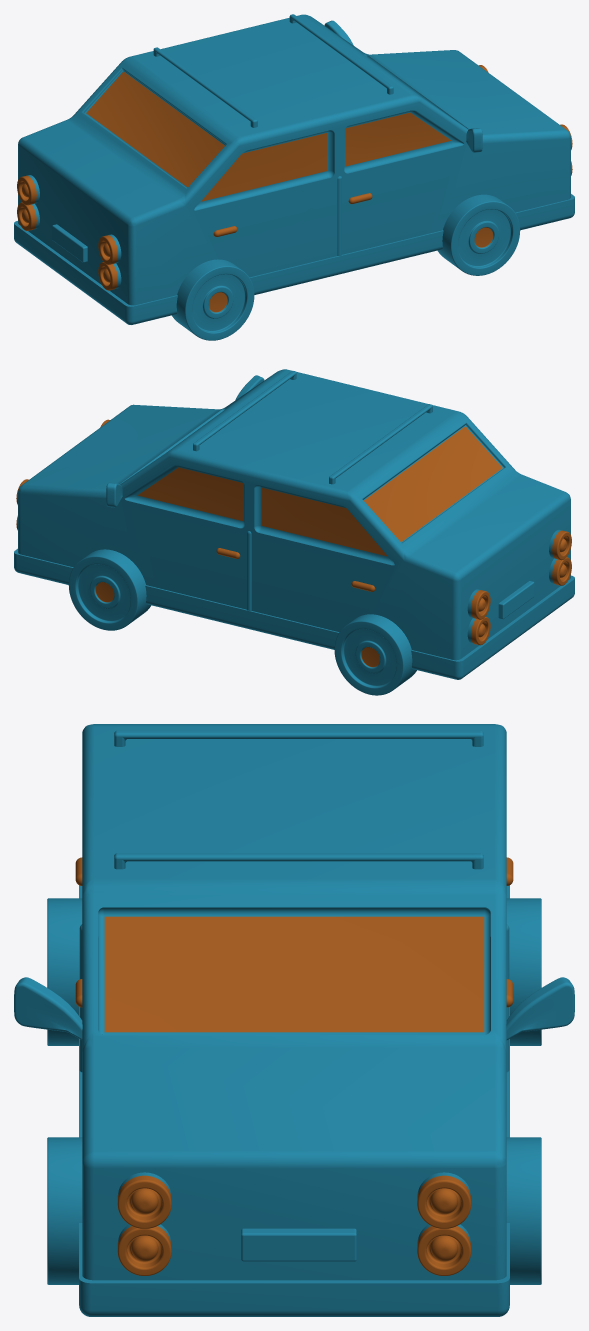
File: car4.glb
3 renders of one model, top to bottom at view 1: azimuth 30°, elevation 25°; view 2: azimuth 150°, elevation 25°; view 3: azimuth 270°, elevation 25°, orthographic. The views are drawn at different scales.
Visible parts, largest first — view 1: Cube, Cube.001, Cylinder, Cylinder.001, Cylinder.003, Cylinder.005, Cube.005, Cube.006, Cube.008, Cube.003; view 2: Cube, Cube.001, Cylinder.001, Cylinder, Cylinder.003, Cylinder.005, Cube.005, Cube.006, Cube.008, Cube.003; view 3: Cube, Cube.001, Cylinder.001, Cylinder, Cube.003, Cylinder.002, Cylinder.004, Cube.007, Cube.005, Cube.006, Cube.002, Cube.004.
Part boxes in pixels (x1,y1,x2,y2): Cube: (18,14,570,305); Cube.001: (14,194,574,324); Cylinder: (172,259,254,340); Cylinder.001: (437,194,520,275); Cylinder.003: (17,175,121,264); Cylinder.005: (17,202,121,290); Cube.005: (153,47,257,127); Cube.006: (289,14,393,94); Cube.008: (52,224,87,262); Cube.003: (324,20,482,152); Cube: (18,369,570,660); Cube.001: (14,548,574,679); Cylinder.001: (68,549,151,630); Cylinder: (334,614,416,695); Cylinder.003: (467,529,571,619); Cylinder.005: (467,557,571,645); Cube.005: (329,404,432,484); Cube.006: (193,371,296,451); Cube.008: (498,581,534,619); Cube.003: (106,375,264,507); Cube: (82,724,506,1280); Cube.001: (79,885,509,1316); Cylinder.001: (47,1137,541,1284); Cylinder: (47,898,541,1045); Cube.003: (14,977,574,1039); Cylinder.002: (117,1172,471,1228); Cylinder.004: (117,1224,471,1275); Cube.007: (241,1228,356,1261); Cube.005: (114,730,483,746); Cube.006: (114,853,483,869); Cube.002: (75,857,513,1007); Cube.004: (79,924,509,1072).
Size of the model in its own units: 9.43 by 3.77 by 5.4.
